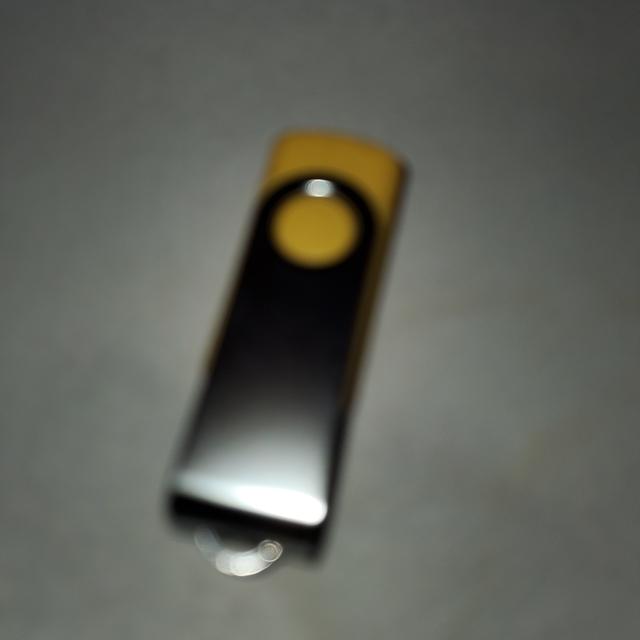usb_drive: (145, 124, 408, 576)
